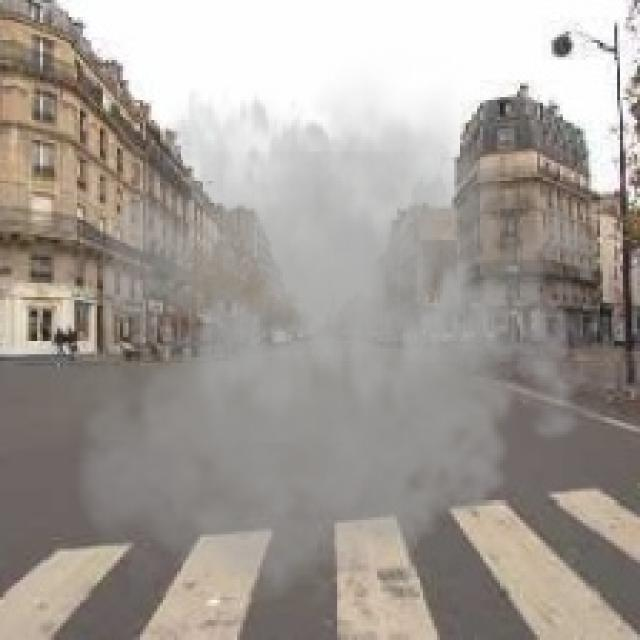Smoke: (62, 51, 618, 620)
